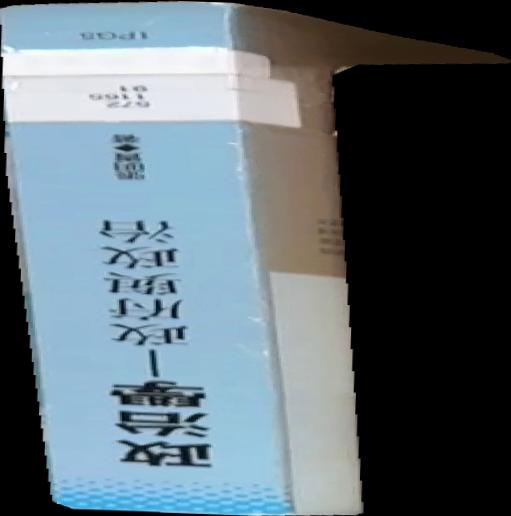reverse: (1, 1, 511, 516)
